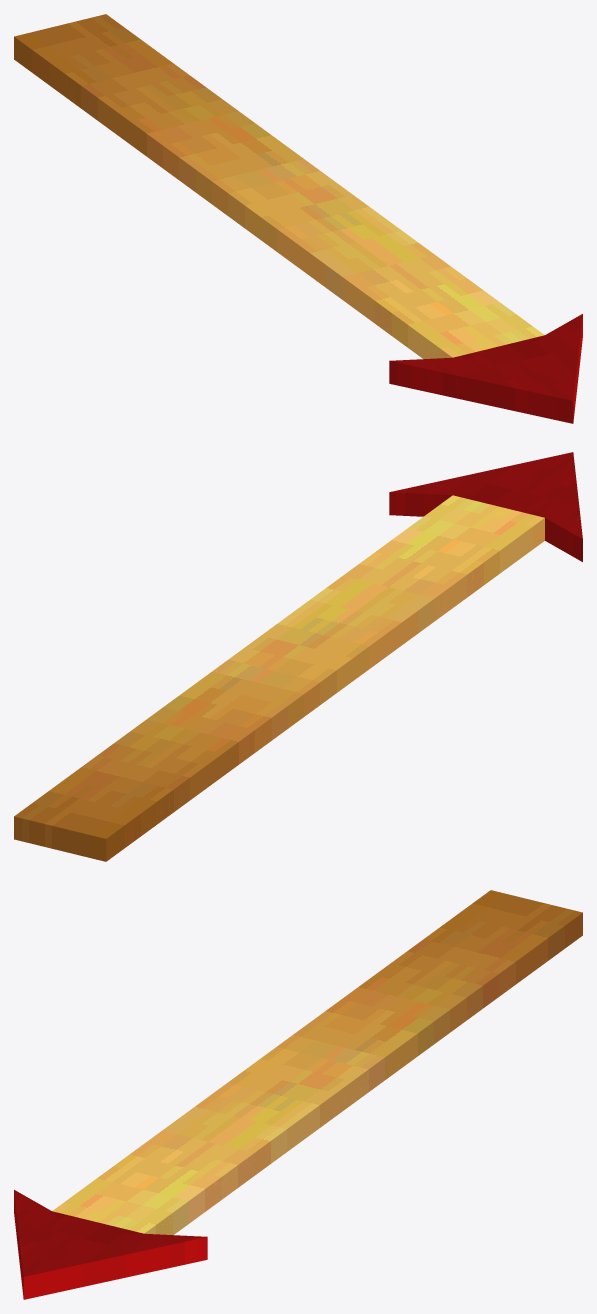
Rendered from ct_mecha_obj10.glb.
3 views of the same model, one above another, from view 1: azimuth 30°, elevation 25°; view 2: azimuth 150°, elevation 25°; view 3: azimuth 330°, elevation 25° (orthographic).
Parts seen in each view (by area): view 1: ct_mecha_obj10; view 2: ct_mecha_obj10; view 3: ct_mecha_obj10.
Part boxes in pixels (x1=…): ct_mecha_obj10: x1=14, y1=14, x2=582, y2=423; ct_mecha_obj10: x1=14, y1=452, x2=582, y2=861; ct_mecha_obj10: x1=14, y1=890, x2=582, y2=1299.
Size of the model in its own units: 44.09 by 5 by 202.
1 material, 1 textured.
